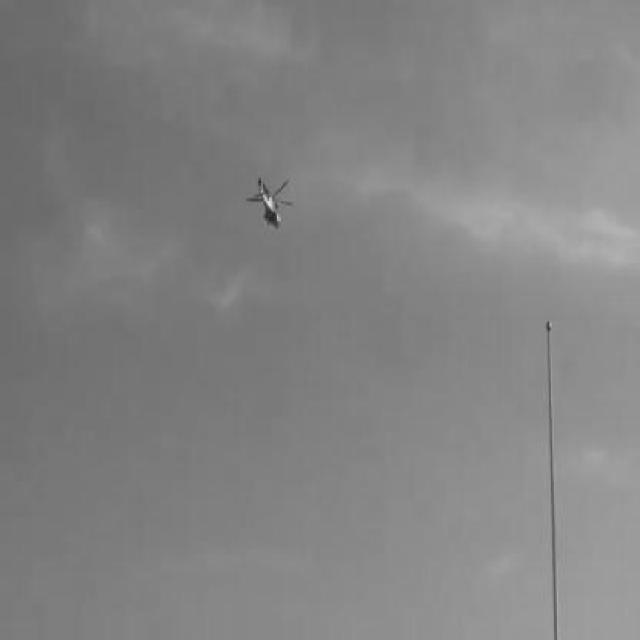helikopter: (244, 178, 294, 231)
